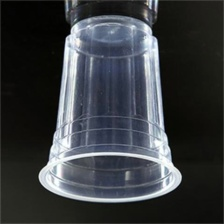glass: (34, 5, 186, 207)
